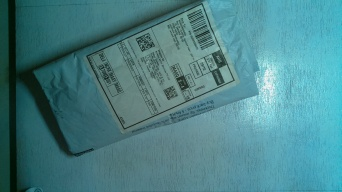a: (24, 1, 269, 156)
